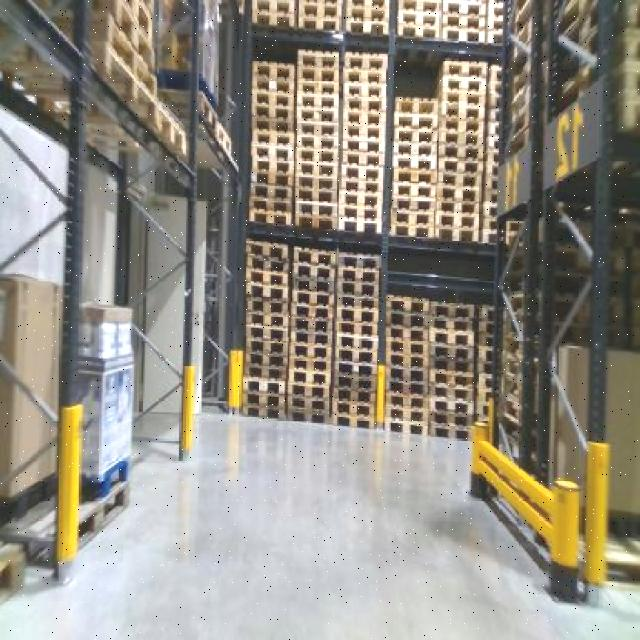pallet: (232, 268, 294, 290), (245, 316, 289, 346), (330, 380, 382, 404), (240, 239, 290, 263), (388, 284, 428, 314), (330, 369, 380, 391), (243, 349, 290, 372), (241, 374, 285, 398), (384, 336, 430, 357), (238, 400, 286, 420), (245, 292, 288, 314), (382, 404, 426, 425), (384, 308, 430, 328), (331, 412, 373, 432), (383, 418, 427, 436), (385, 365, 429, 382)
